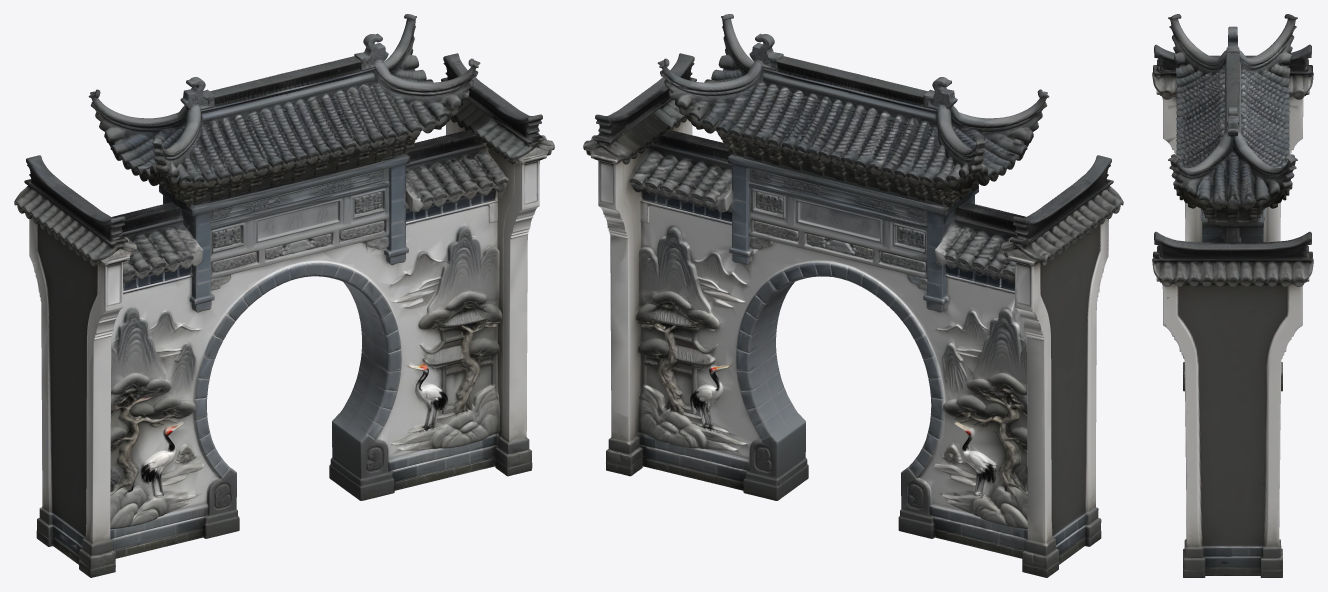
The picture shows the model from 3 angles, left to right: view 1: azimuth 30°, elevation 25°; view 2: azimuth 150°, elevation 25°; view 3: azimuth 270°, elevation 25°; orthographic projection. The views are drawn at different scales.
Visible parts, largest first — view 1: node_0; view 2: node_0; view 3: node_0.
Part boxes in pixels (<box>): node_0: <box>14,14,554,577</box>; node_0: <box>583,14,1123,577</box>; node_0: <box>1152,14,1313,577</box>.
Size of the model in its own units: 0.8954 by 0.8254 by 0.2936.
Materials: 1 (1 with a texture image).
